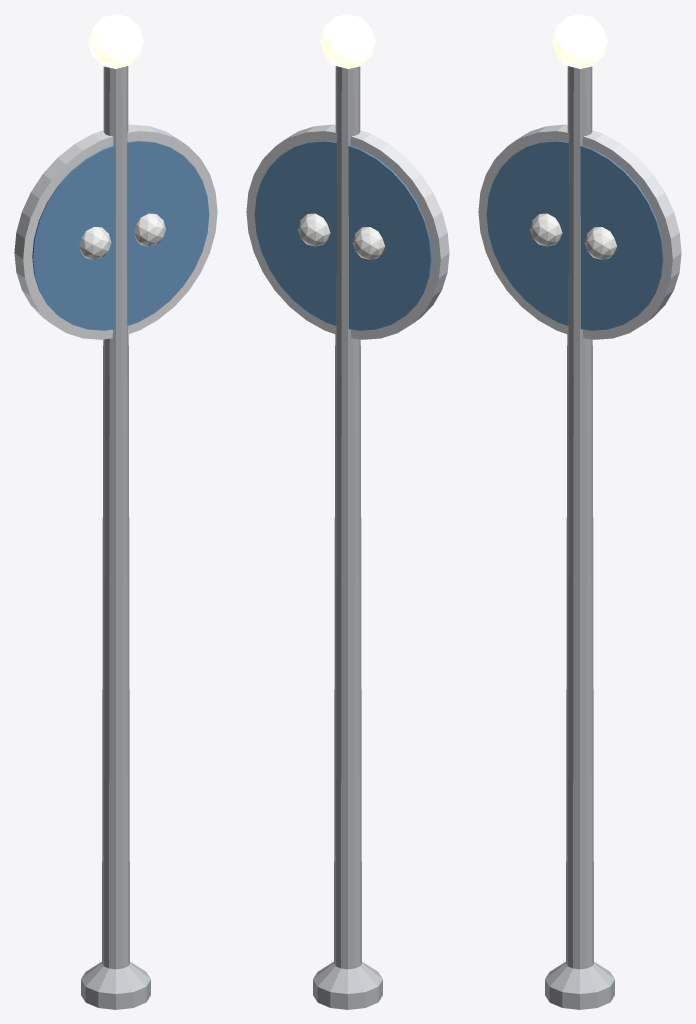
File: bay_pole_2.glb
3 views of the same model, side by side, from view 1: azimuth 30°, elevation 25°; view 2: azimuth 150°, elevation 25°; view 3: azimuth 330°, elevation 25° (orthographic).
Parts seen in each view (by area): view 1: bay_pole_2_steel, bay_pole_2_sign_b, bay_pole_2_chrome, bay_pole_2_lamp_glass, bay_pole_2_paint_w; view 2: bay_pole_2_steel, bay_pole_2_sign_b, bay_pole_2_chrome, bay_pole_2_lamp_glass, bay_pole_2_paint_w; view 3: bay_pole_2_steel, bay_pole_2_sign_b, bay_pole_2_chrome, bay_pole_2_lamp_glass, bay_pole_2_paint_w.
Part boxes in pixels (left/top/right/bottom): bay_pole_2_steel: left=81, top=66, right=150, bottom=1009; bay_pole_2_sign_b: left=32, top=141, right=209, bottom=330; bay_pole_2_chrome: left=14, top=124, right=217, bottom=339; bay_pole_2_lamp_glass: left=88, top=14, right=143, bottom=68; bay_pole_2_paint_w: left=79, top=213, right=165, bottom=259; bay_pole_2_steel: left=313, top=66, right=382, bottom=1009; bay_pole_2_sign_b: left=254, top=141, right=431, bottom=330; bay_pole_2_chrome: left=246, top=124, right=449, bottom=339; bay_pole_2_lamp_glass: left=320, top=14, right=375, bottom=68; bay_pole_2_paint_w: left=298, top=213, right=384, bottom=259; bay_pole_2_steel: left=545, top=66, right=614, bottom=1009; bay_pole_2_sign_b: left=486, top=141, right=663, bottom=330; bay_pole_2_chrome: left=478, top=124, right=681, bottom=339; bay_pole_2_lamp_glass: left=552, top=14, right=607, bottom=68; bay_pole_2_paint_w: left=530, top=213, right=616, bottom=259.
Bounding box in the file's own units: 0.64 × 3.08 × 0.2.
